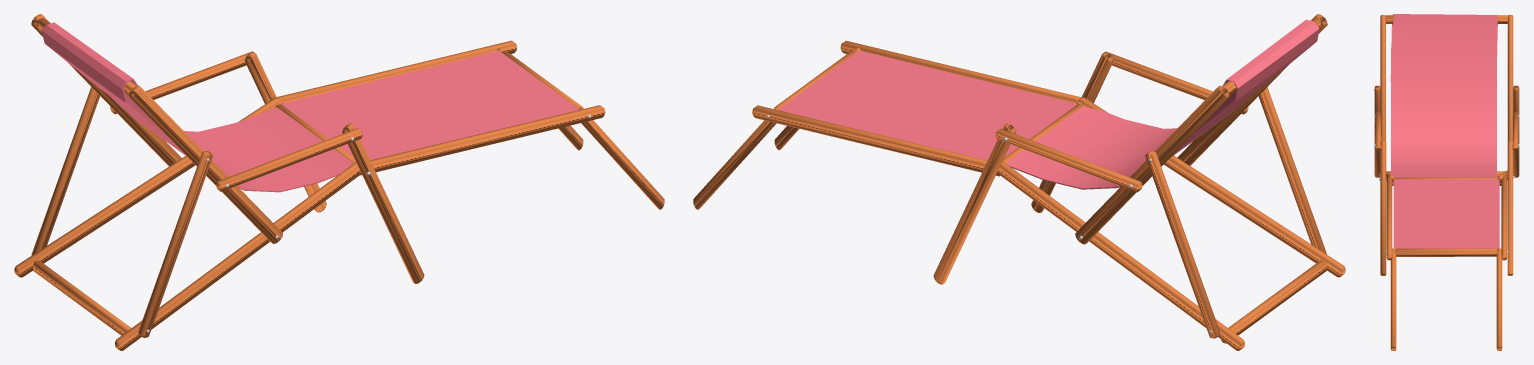
Rendered from PoolChair.fbx.
The picture shows the model from 3 angles, left to right: view 1: azimuth 30°, elevation 25°; view 2: azimuth 150°, elevation 25°; view 3: azimuth 270°, elevation 25°; orthographic projection. The views are drawn at different scales.
Visible parts, largest first — view 1: Plane.001; view 2: Plane.001; view 3: Plane.001.
Part boxes in pixels (box(x1,y1,x2,y2)): Plane.001: box(14, 14, 664, 350); Plane.001: box(693, 14, 1345, 350); Plane.001: box(1374, 14, 1519, 350).
Bounding box in the file's own units: 223 × 101 × 77.25.
